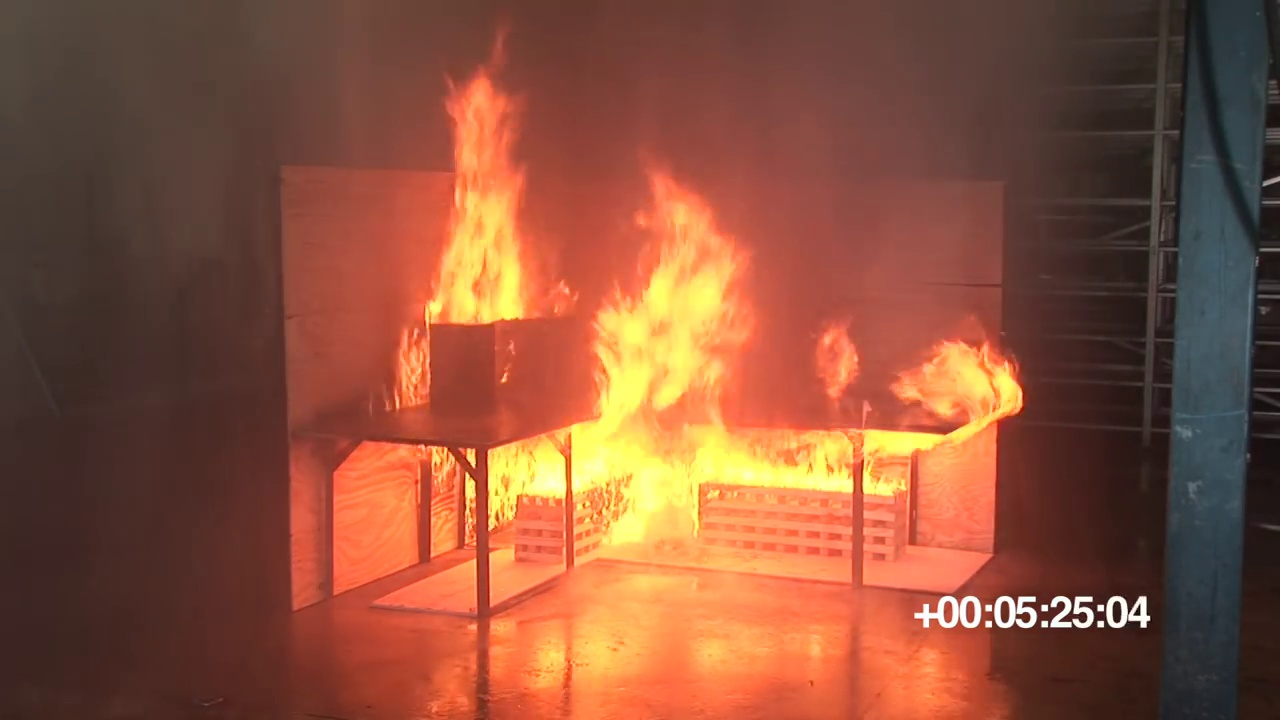fire: (490, 434, 900, 540), (592, 179, 746, 428), (436, 85, 522, 324), (891, 334, 1021, 423), (811, 319, 863, 397)
